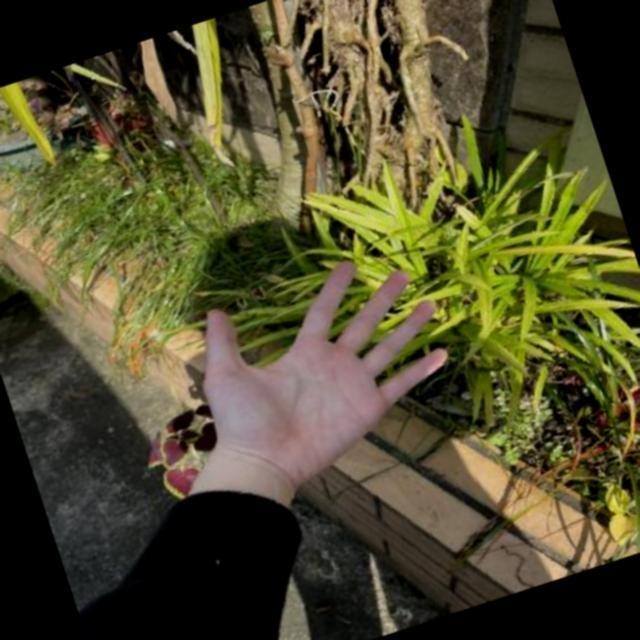hand: (155, 215, 498, 508)
